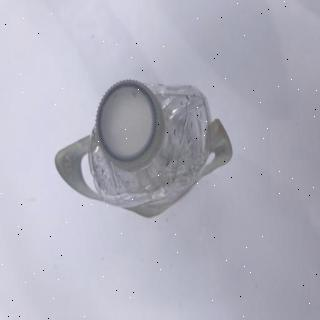Plastic-bottle: (54, 75, 234, 222)
